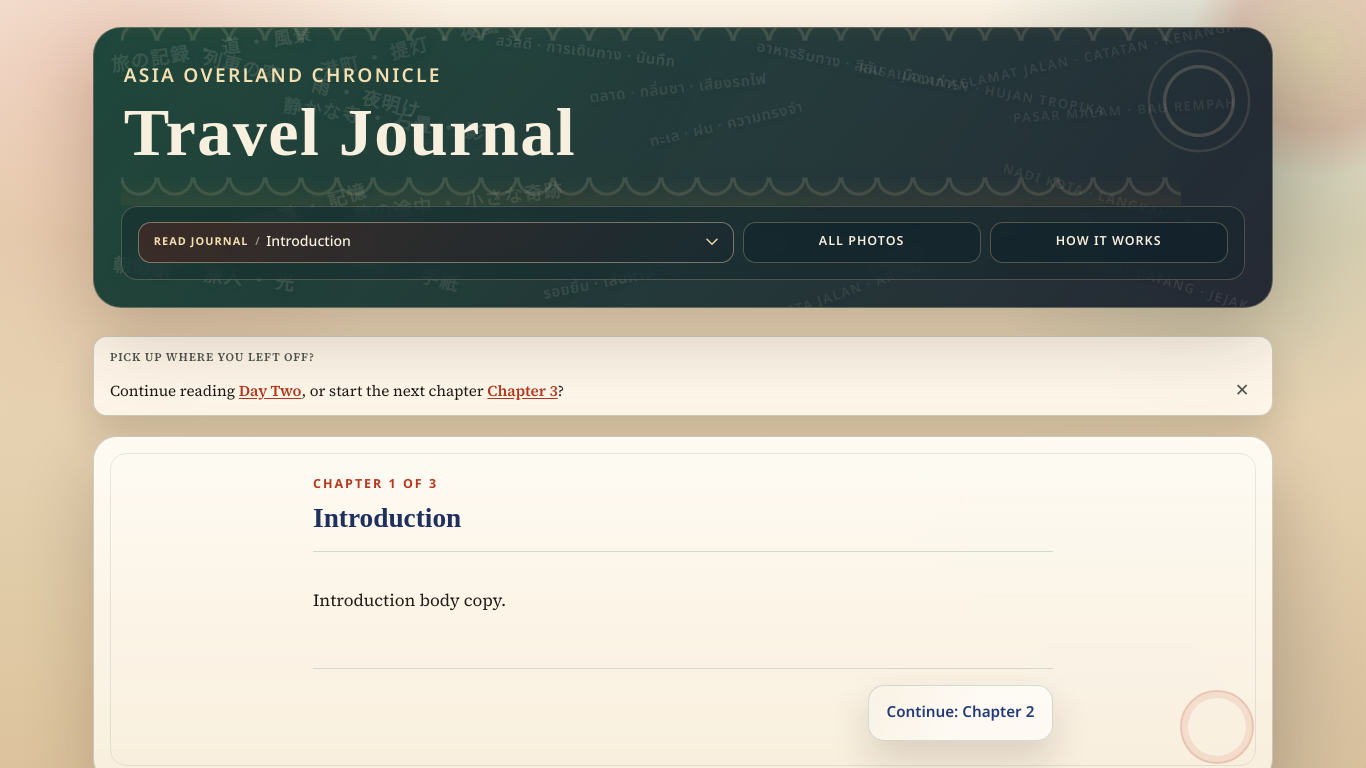
Test case: App › restores reading progress when user clicks resume bookmark
The image size is (1366, 768).
Check: the text "Chapter 1 of 3" is shown, box 313,475 -> 438,494
Check: the text "Pick up where you left off?" is shown, box 110,349 -> 315,365
Click the link "Day Two" at (270, 391), box 239,380 -> 302,401
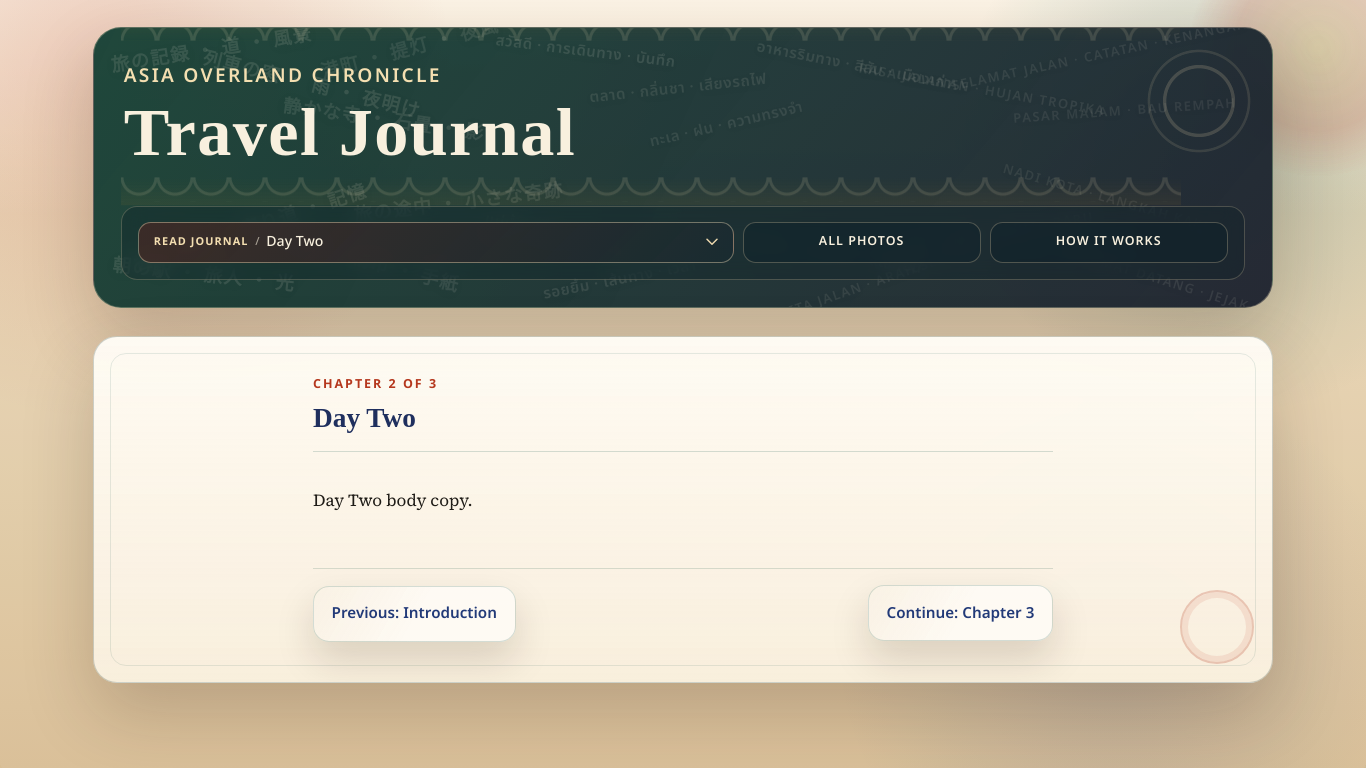
Check: the text "Chapter 2 of 3" is shown, box 313,375 -> 438,394
Check: the text "Pick up where you left off" is gone
